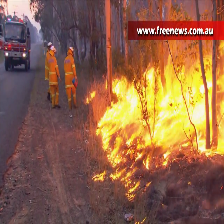fire_h: (94, 42, 224, 202), (110, 167, 137, 182)
fire_l: (92, 170, 105, 182), (128, 180, 141, 192), (85, 90, 96, 103), (125, 193, 136, 201), (144, 181, 152, 192)
